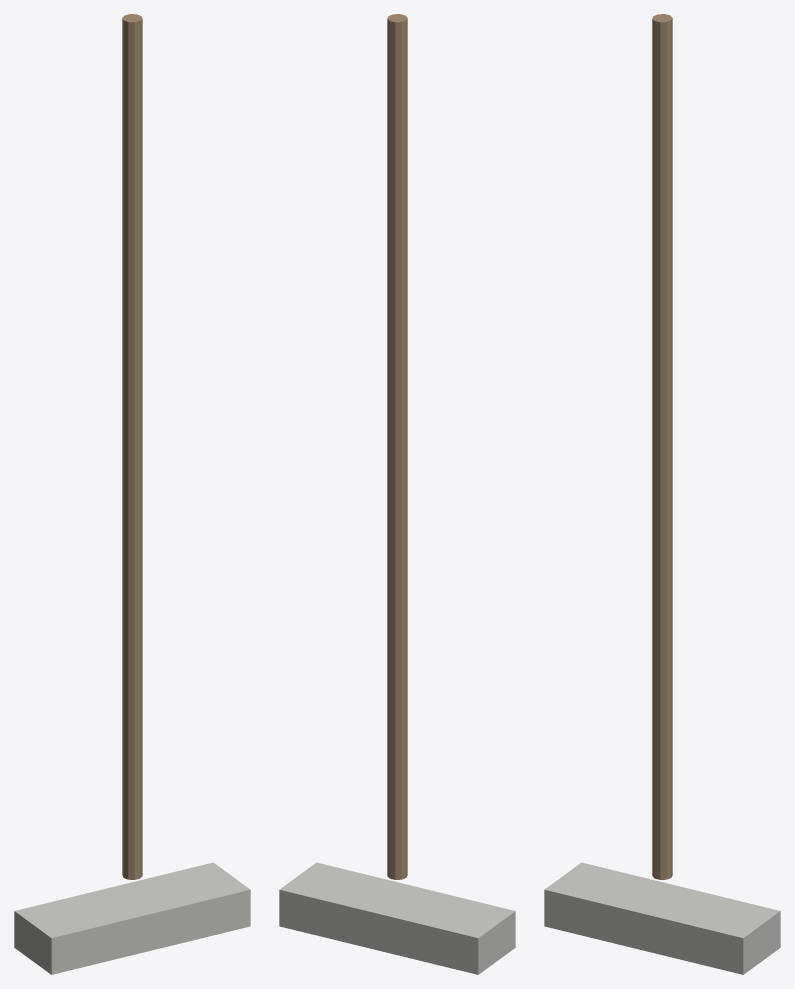
File: COR-016.glb
3 views of the same model, side by side, from view 1: azimuth 30°, elevation 25°; view 2: azimuth 150°, elevation 25°; view 3: azimuth 330°, elevation 25° (orthographic).
Visible parts, largest first — view 1: 000_Mop_rod, 001_Mop_head; view 2: 000_Mop_rod, 001_Mop_head; view 3: 000_Mop_rod, 001_Mop_head.
Boxes of the visible parts, x1,y1,x2,y2 form: 000_Mop_rod: [122, 14, 142, 879]; 001_Mop_head: [14, 862, 250, 974]; 000_Mop_rod: [387, 14, 407, 879]; 001_Mop_head: [279, 862, 515, 974]; 000_Mop_rod: [652, 14, 672, 879]; 001_Mop_head: [544, 862, 780, 974].
Size of the model in its own units: 0.34 by 1.5 by 0.11.
